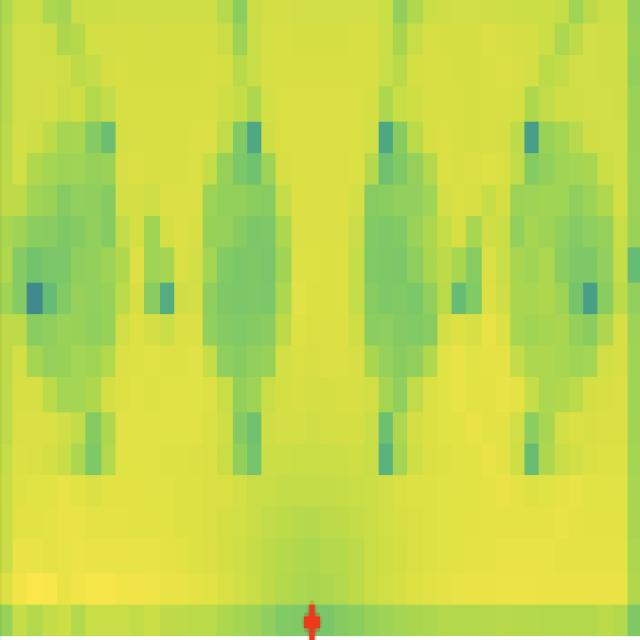Concrete: (512, 166, 612, 396)
Glass: (362, 154, 438, 383)
Metal: (42, 123, 118, 405)
Wood: (200, 150, 289, 385)
